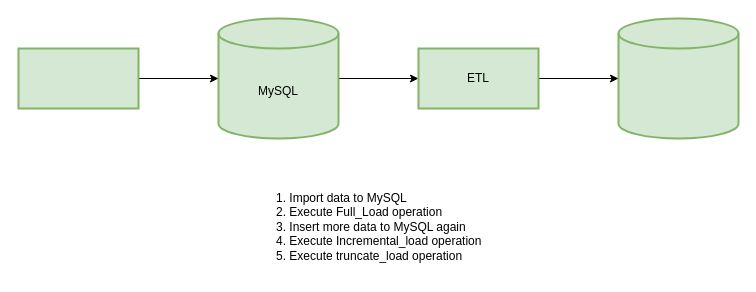
The diagram is 756 pixels wide and 292 high, and some of its shapes have lost their labels. Each missing label, with the box of its shape:
Insert data into MySQL by Script: (17, 47, 139, 109)
PostgreSQL: (617, 17, 739, 139)
